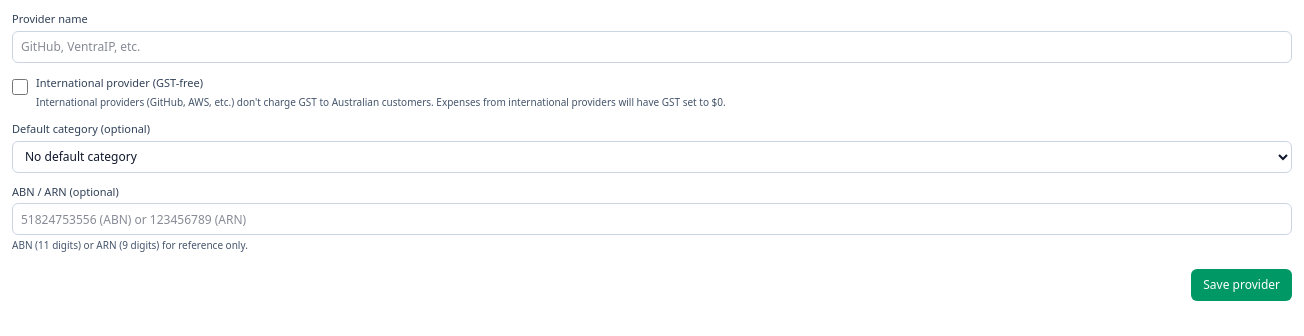
ProviderForm › validates required provider name
The image size is (1304, 336).
Click the button "Save provider": (1242, 285) x1=1191 y1=269 x2=1292 y2=301
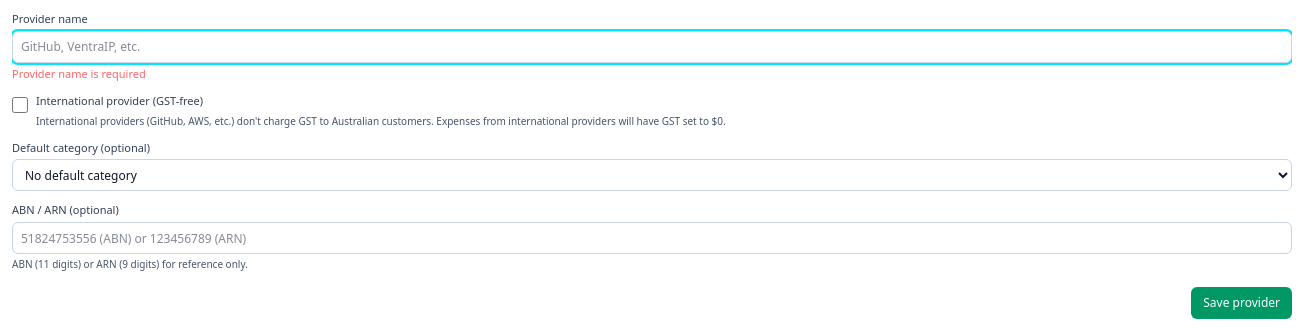
Now the text "Provider name is required" is shown, box x1=12 y1=66 x2=146 y2=81
